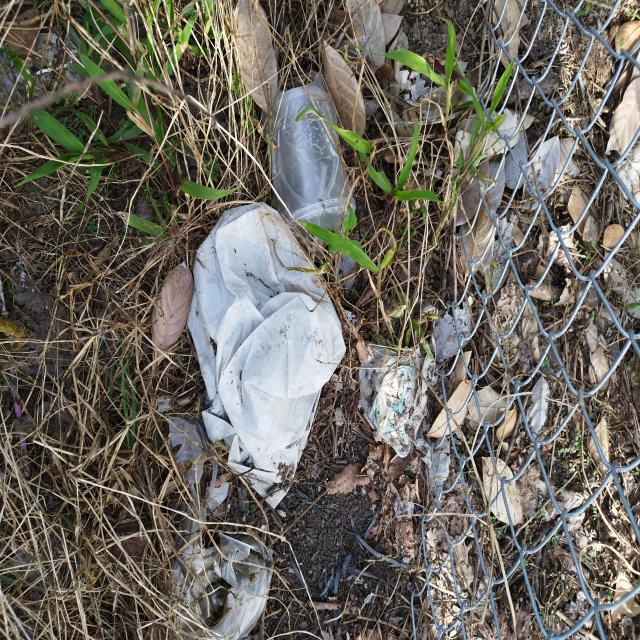bag: (188, 202, 346, 508)
plastic glass: (273, 87, 356, 223)
